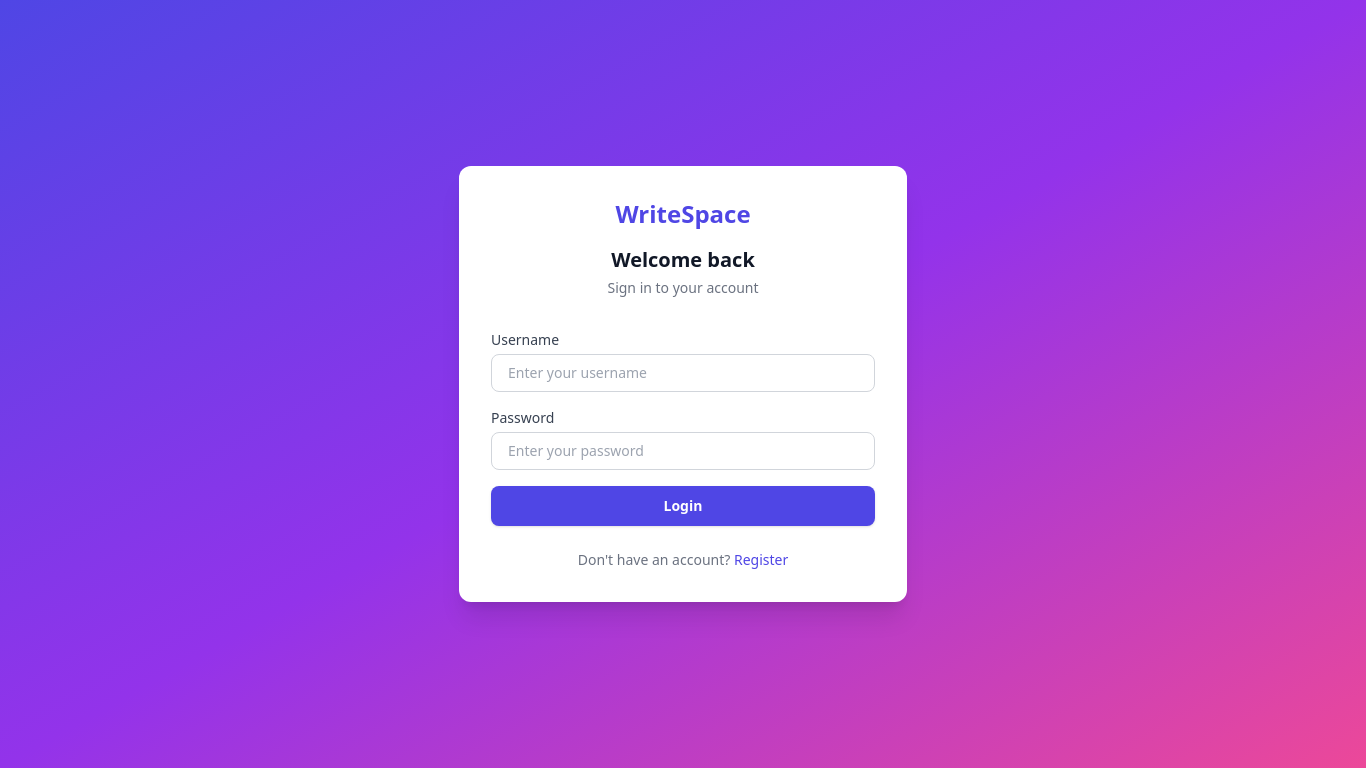
Test case: LoginPage › failed login › displays error message on failed login
Type "wronguser" into the field labelled "Username". click: [683, 373]
box: [491,354,875,392]
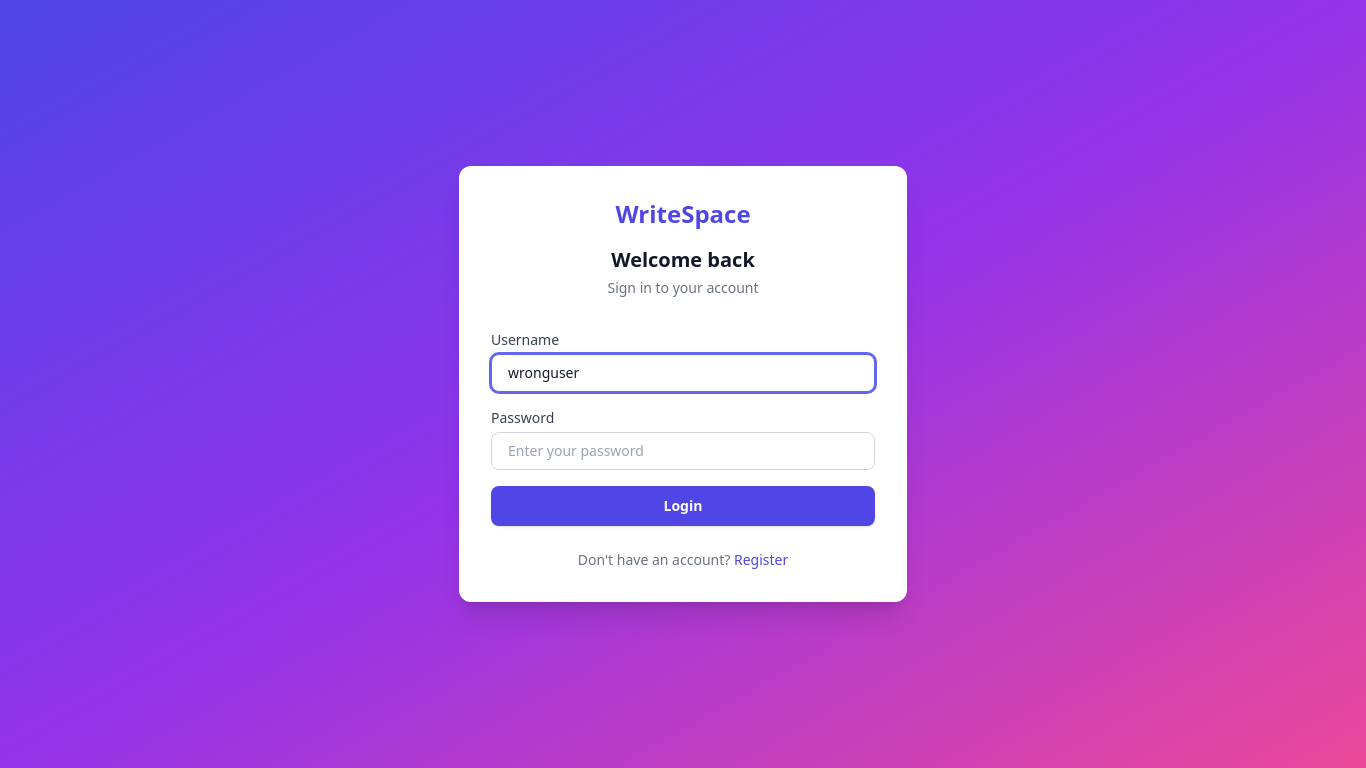
Type "wrongpass" into the password field labelled "Password". click: [683, 451]
box: [491,432,875,470]
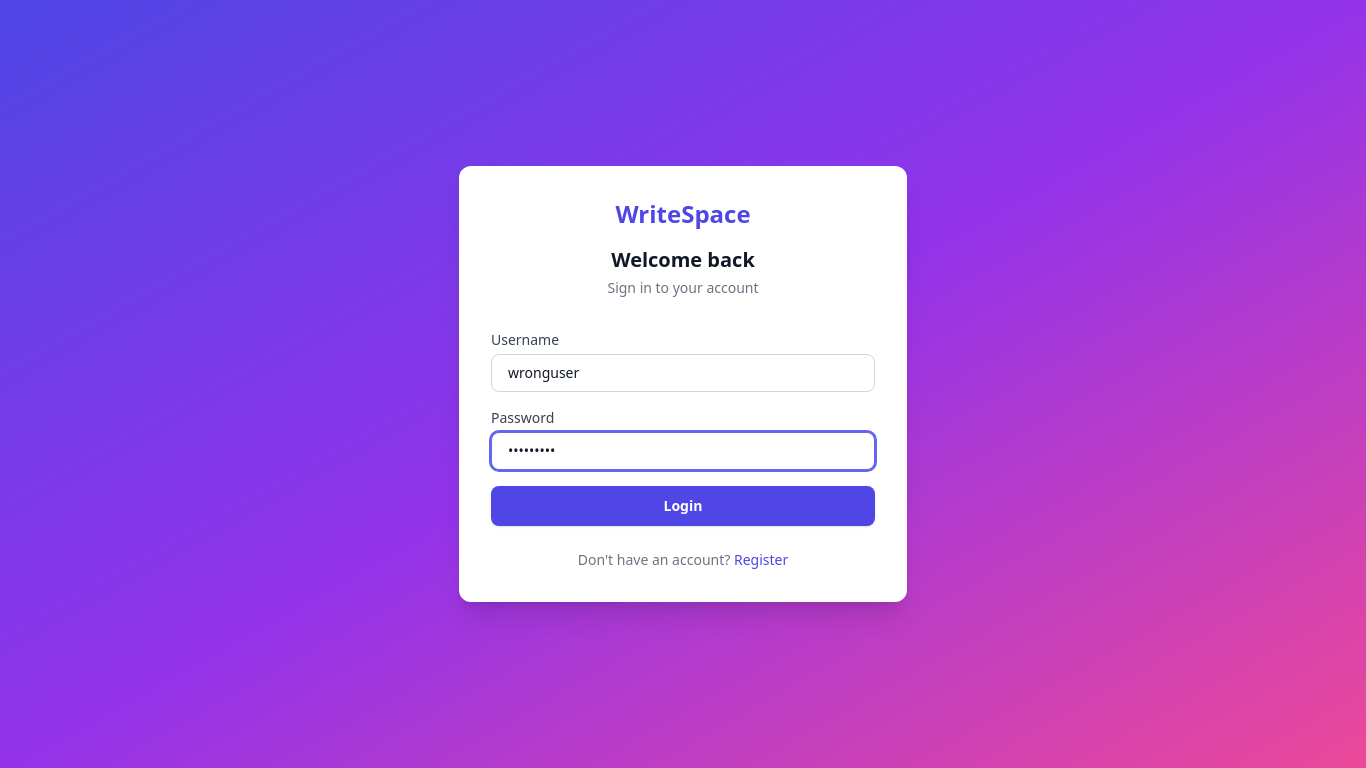
Click the button "Login". click: [683, 506]
box: [491,486,875,526]
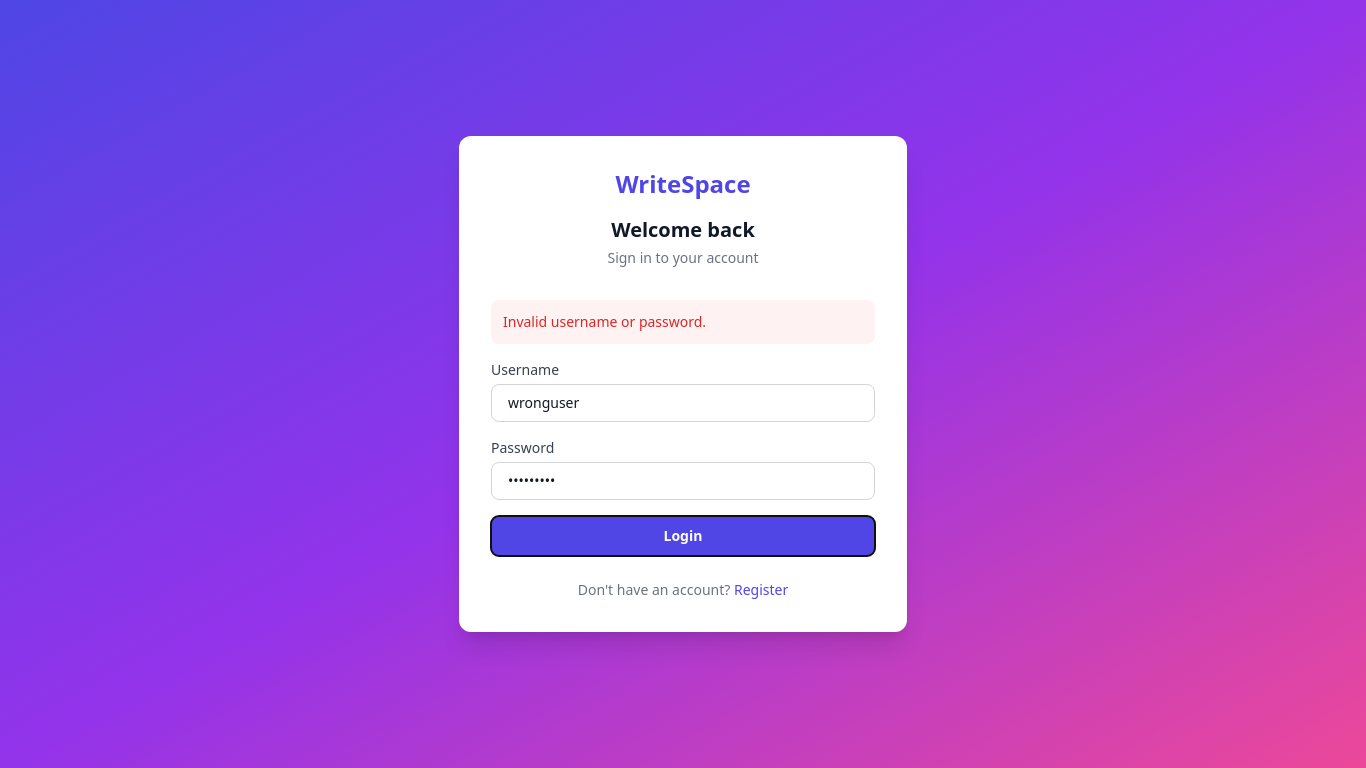
expect the text "Invalid username or password." is shown: met, box [491,300,875,344]
